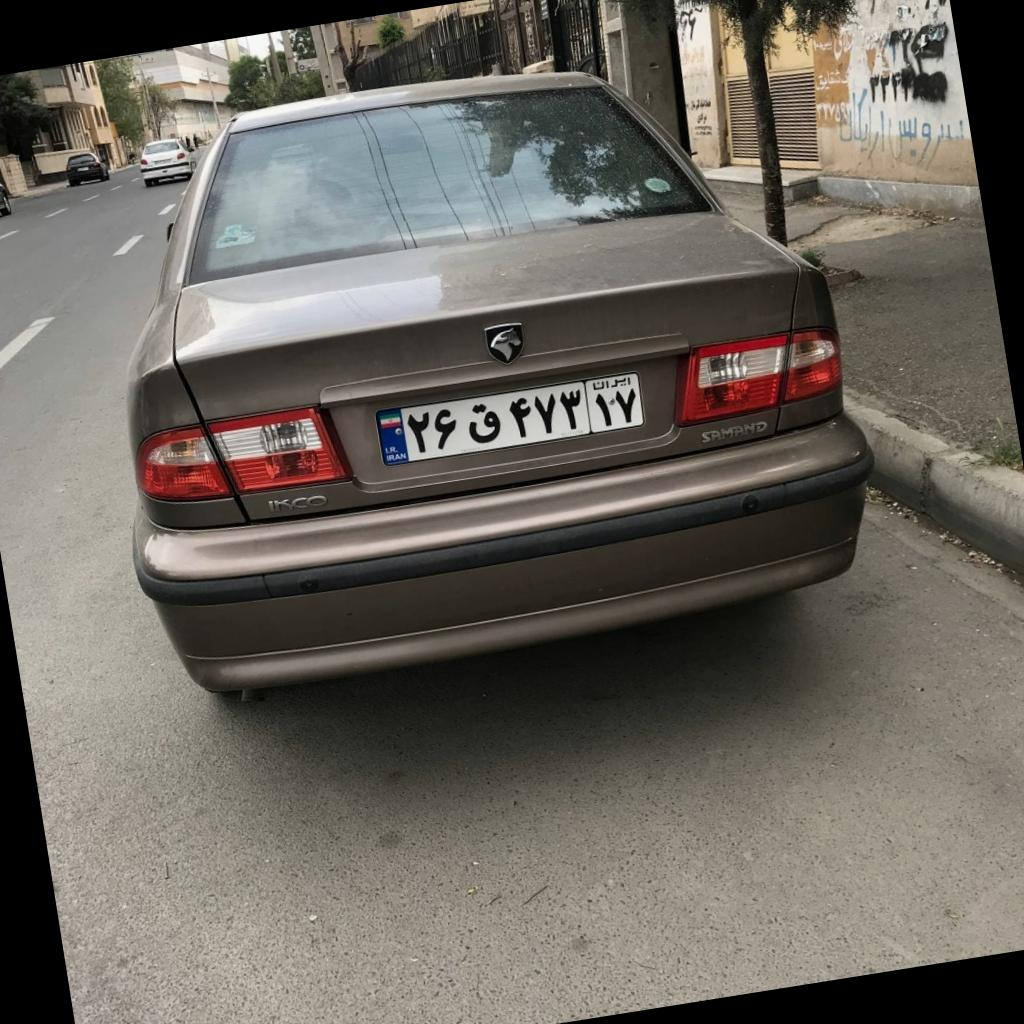Plates: (374, 372, 644, 466)
